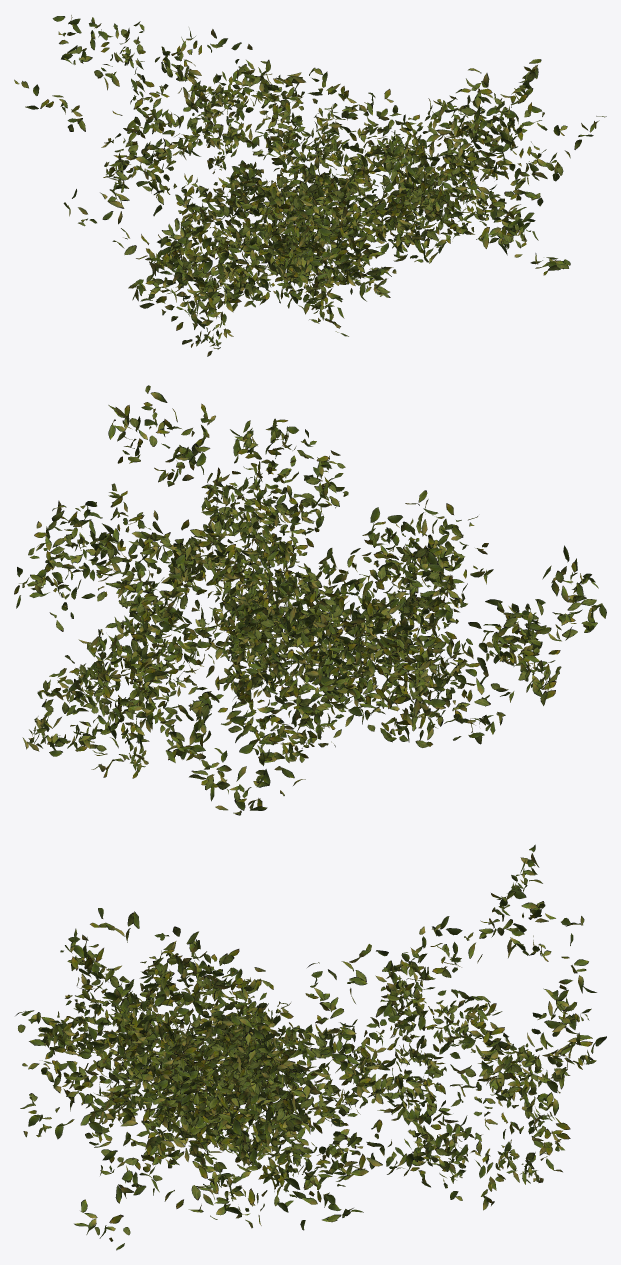
The model's file is island_tree_02_L0_hojas.glb.
3 views of the same model, one above another, from view 1: azimuth 30°, elevation 25°; view 2: azimuth 150°, elevation 25°; view 3: azimuth 270°, elevation 25° (orthographic). The views are drawn at different scales.
Parts seen in each view (by area): view 1: island_tree_02_LOD0; view 2: island_tree_02_LOD0; view 3: island_tree_02_LOD0.
Part boxes in pixels (x1,y1,x2,y2): island_tree_02_LOD0: (14,15,606,356); island_tree_02_LOD0: (14,385,606,815); island_tree_02_LOD0: (15,844,606,1250).
Size of the model in its own units: 3.81 by 1.76 by 4.08.
Materials: 1 (1 with a texture image).
